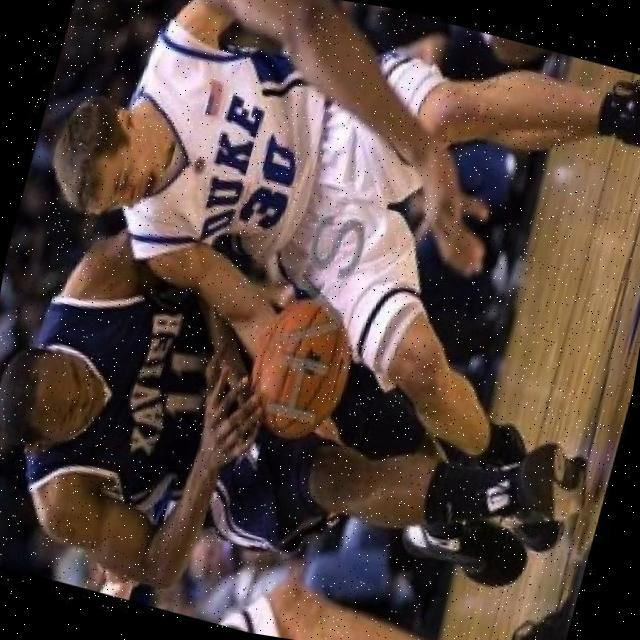ball: (231, 296, 360, 444)
